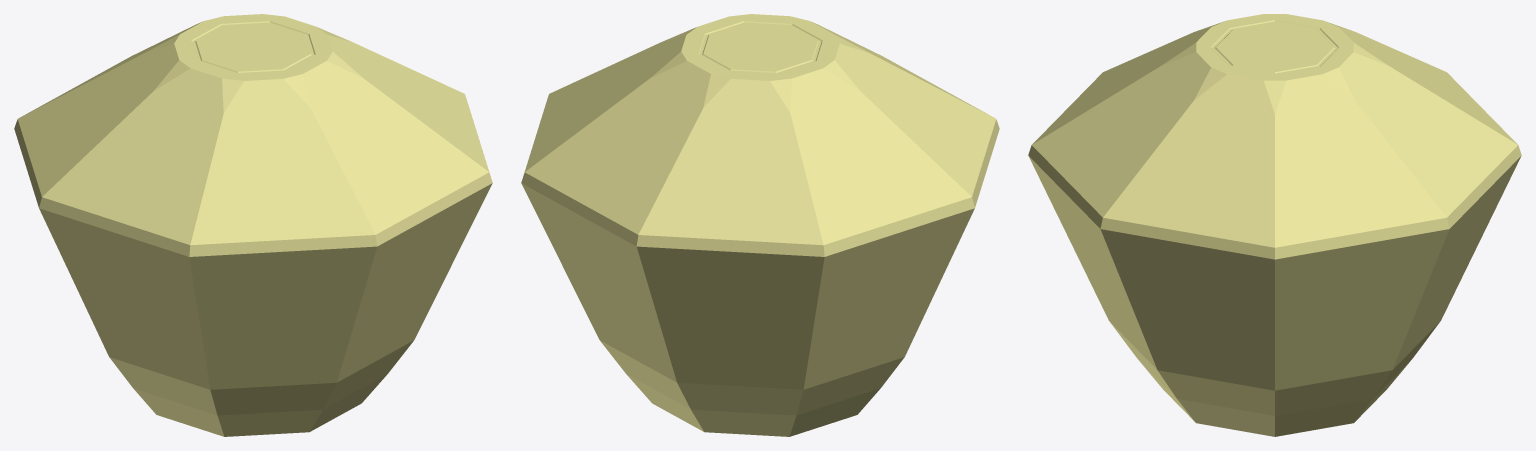
Rendered from BOA_01.glb.
3 renders of one model, left to right at view 1: azimuth 30°, elevation 25°; view 2: azimuth 150°, elevation 25°; view 3: azimuth 270°, elevation 25°, orthographic.
Visible parts, largest first — view 1: BOA_01; view 2: BOA_01; view 3: BOA_01.
Part boxes in pixels (<box>): BOA_01: <box>14,14,492,436</box>; BOA_01: <box>521,14,999,436</box>; BOA_01: <box>1028,14,1521,436</box>.
Size of the model in its own units: 0.2213 by 0.1694 by 0.2213.
